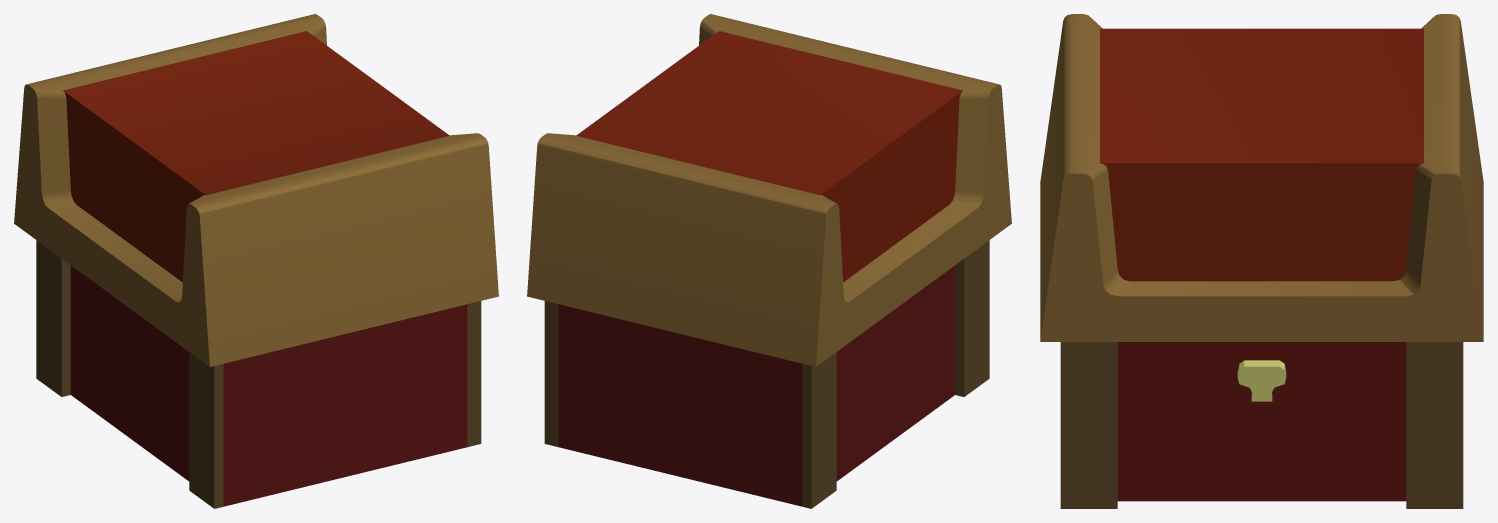
File: chest.glb
3 views of the same model, side by side, from view 1: azimuth 30°, elevation 25°; view 2: azimuth 150°, elevation 25°; view 3: azimuth 270°, elevation 25° (orthographic). The views are drawn at different scales.
Parts seen in each view (by area): view 1: Plane; view 2: Plane; view 3: Plane.
Boxes of the visible parts, <box> form: Plane: <box>14,14,498,508</box>; Plane: <box>527,14,1011,508</box>; Plane: <box>1040,14,1483,508</box>.
Bounding box in the file's own units: 3.9 × 3.87 × 4.58.
